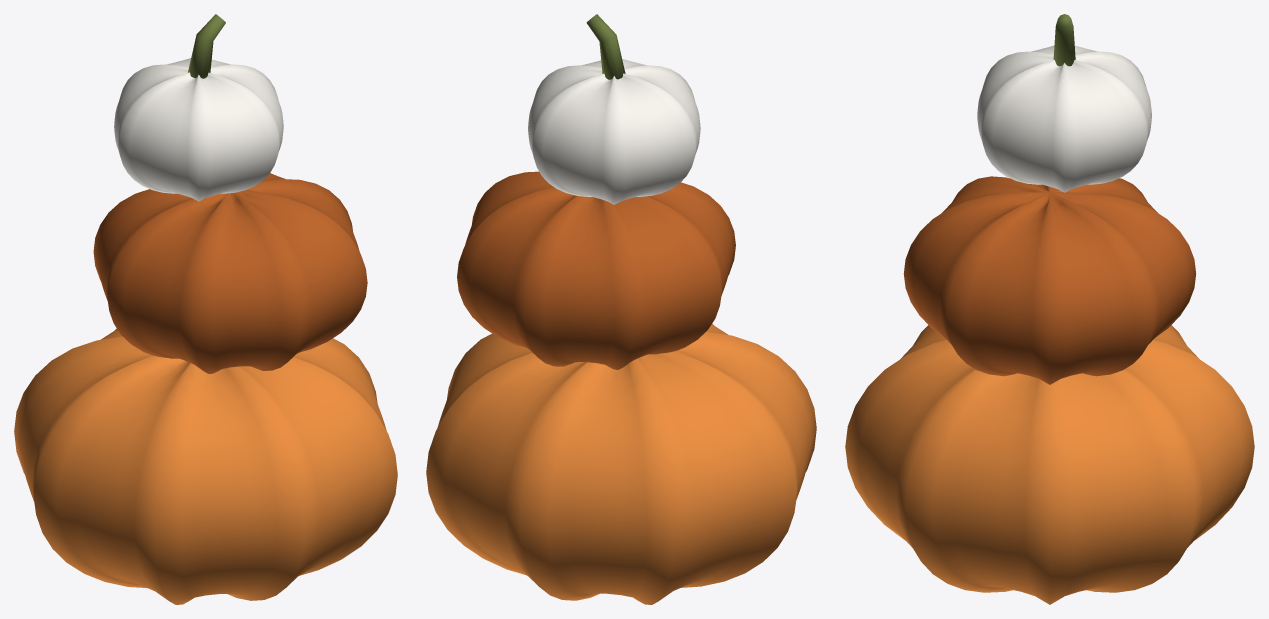
Rendered from pumpkin_stack.fbx.
The picture shows the model from 3 angles, left to right: view 1: azimuth 30°, elevation 25°; view 2: azimuth 150°, elevation 25°; view 3: azimuth 270°, elevation 25°; orthographic projection. The views are drawn at different scales.
Visible parts, largest first — view 1: LH_pumpkin_stack; view 2: LH_pumpkin_stack; view 3: LH_pumpkin_stack.
Boxes of the visible parts, bbox=[...] form: LH_pumpkin_stack: bbox=[14, 14, 397, 604]; LH_pumpkin_stack: bbox=[426, 14, 816, 604]; LH_pumpkin_stack: bbox=[845, 14, 1254, 604].
Bounding box in the file's own units: 0.28 × 0.4335 × 0.28.
